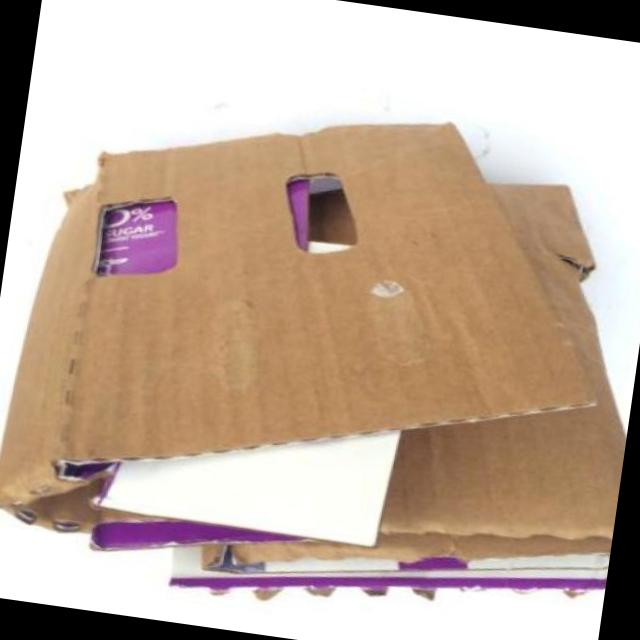cardboard paper: (0, 127, 625, 592)
